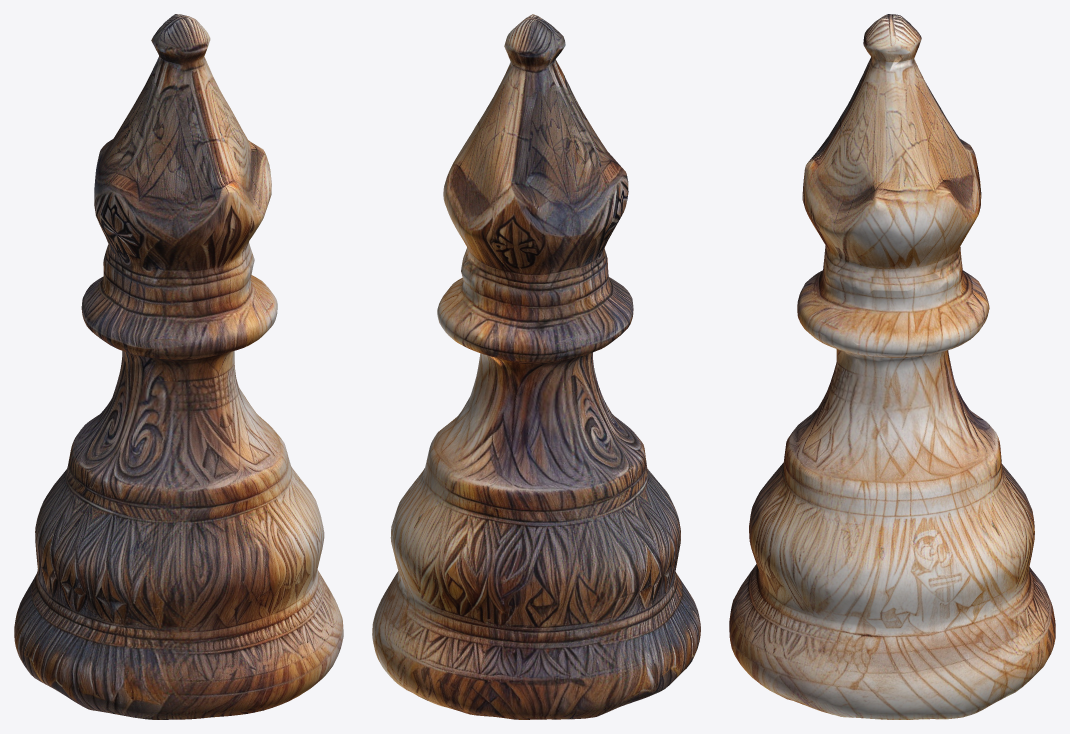
Rendered from bishop.glb.
3 renders of one model, left to right at view 1: azimuth 30°, elevation 25°; view 2: azimuth 150°, elevation 25°; view 3: azimuth 270°, elevation 25°, orthographic.
Visible parts, largest first — view 1: mesh_0; view 2: mesh_0; view 3: mesh_0.
Boxes of the visible parts, <box> form: mesh_0: <box>14,14,343,719</box>; mesh_0: <box>372,14,700,719</box>; mesh_0: <box>729,14,1055,719</box>.
Size of the model in its own units: 0.5462 by 1.2 by 0.5439.
1 material, 1 textured.
